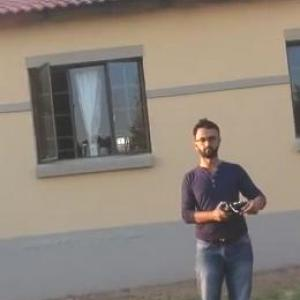follow: (174, 112, 279, 299)
